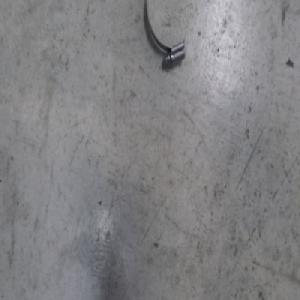AdjustableClamp: (144, 0, 189, 69)
